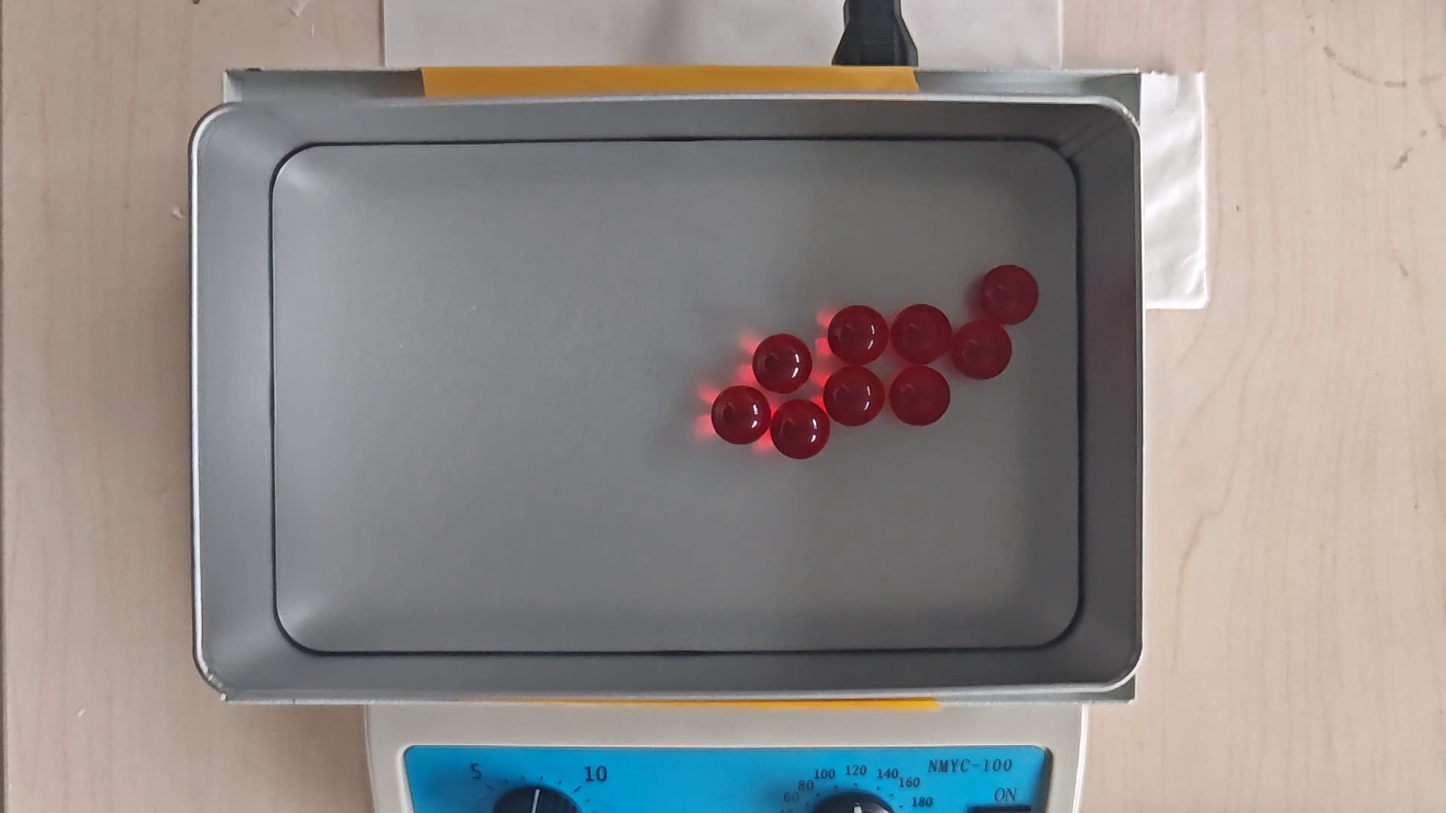ball: (889, 303, 953, 366), (889, 364, 951, 429), (823, 365, 886, 428), (826, 304, 890, 365), (752, 332, 814, 394), (770, 398, 831, 460), (978, 262, 1039, 324), (953, 318, 1013, 381), (712, 386, 772, 444)
container: (271, 142, 1081, 650)
